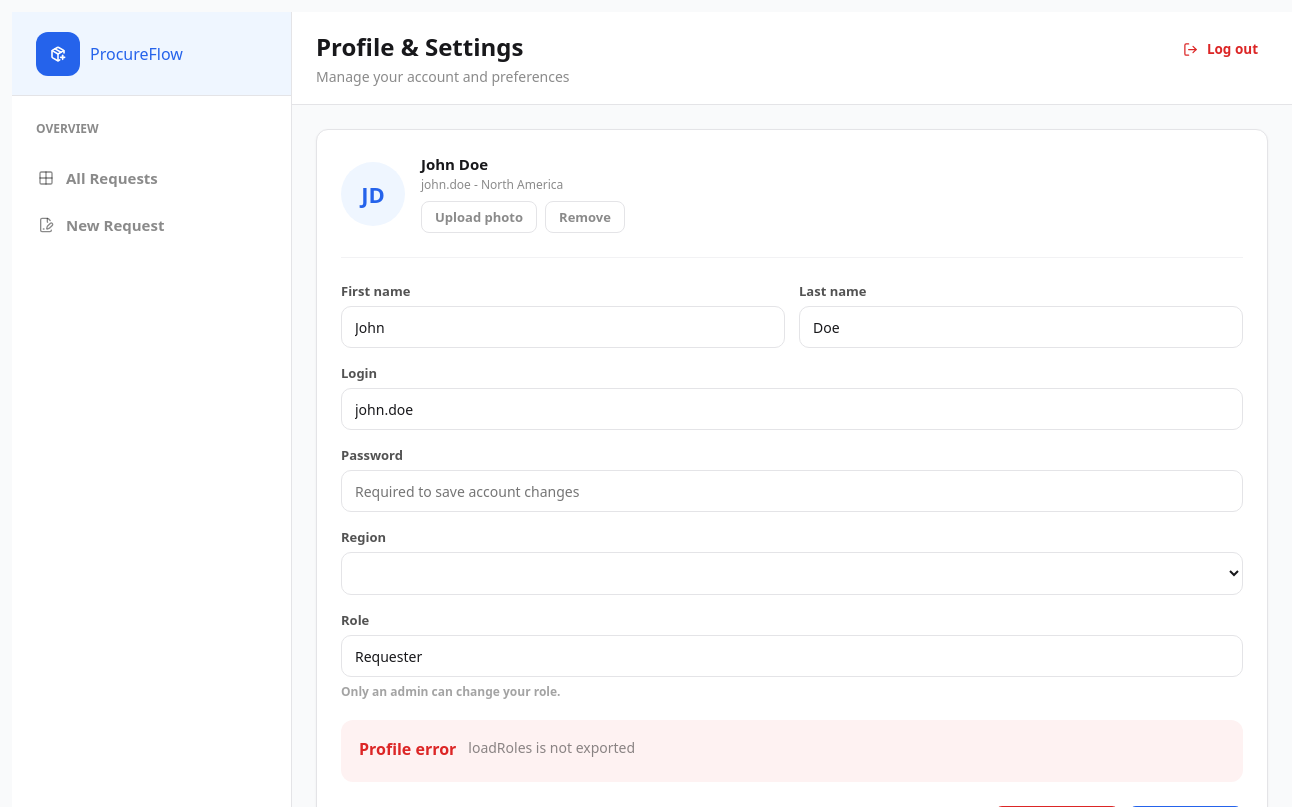
Test case: App › logs out from the profile screen
expect the heading "Profile & Settings" is shown: met, box [316, 30, 523, 63]
Click the button "Log out".
click(1220, 49)  # box [1173, 30, 1268, 68]
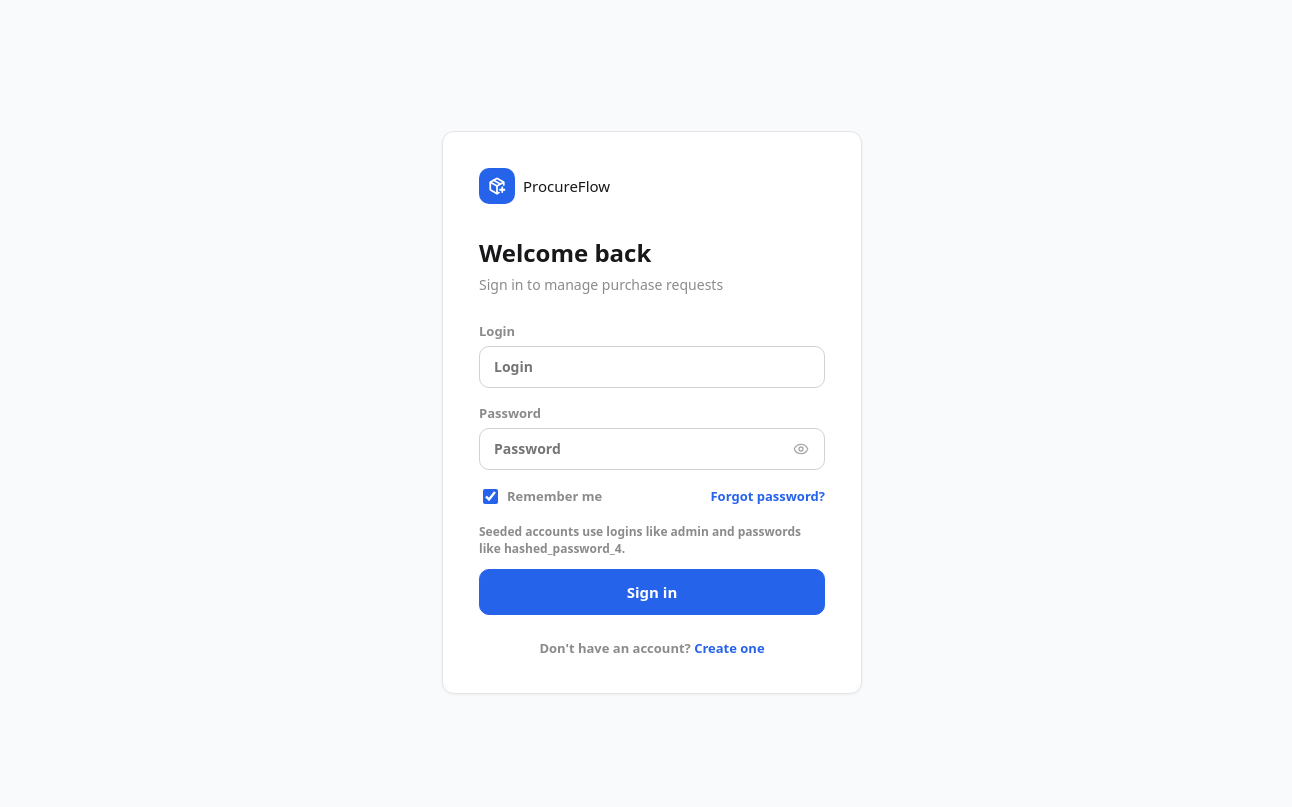
expect the heading "Welcome back" is shown: met, box [479, 236, 651, 268]
